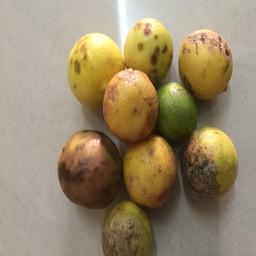Bad_lime: (54, 130, 126, 206), (53, 27, 125, 97), (120, 137, 180, 208), (185, 128, 242, 198), (107, 75, 160, 136), (181, 31, 232, 93), (100, 206, 160, 256), (127, 16, 175, 74)
